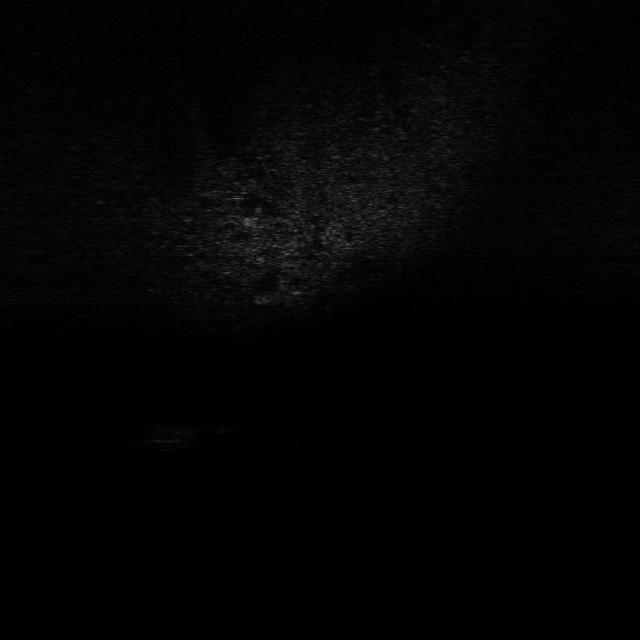ball: (203, 406, 241, 434)
circle cage: (134, 417, 202, 453)
